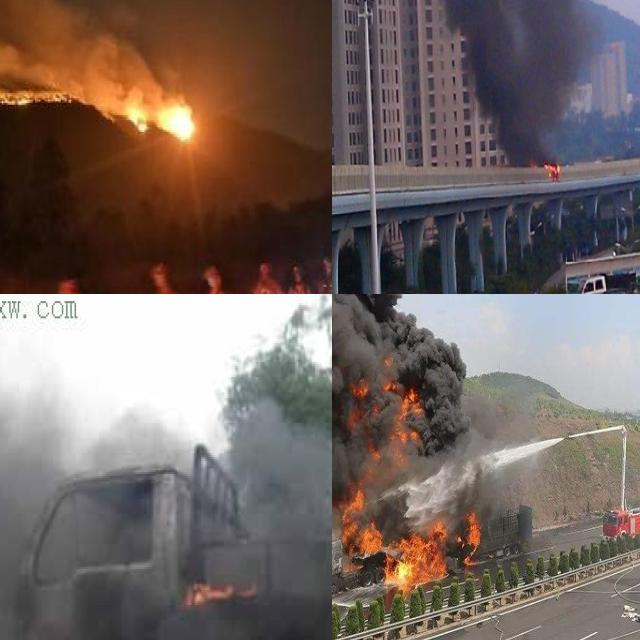fire: (345, 350, 480, 590), (176, 565, 255, 620), (126, 91, 198, 147), (529, 151, 562, 185)
smoke: (0, 322, 332, 640), (332, 0, 614, 161), (332, 294, 463, 573), (0, 0, 154, 121)
